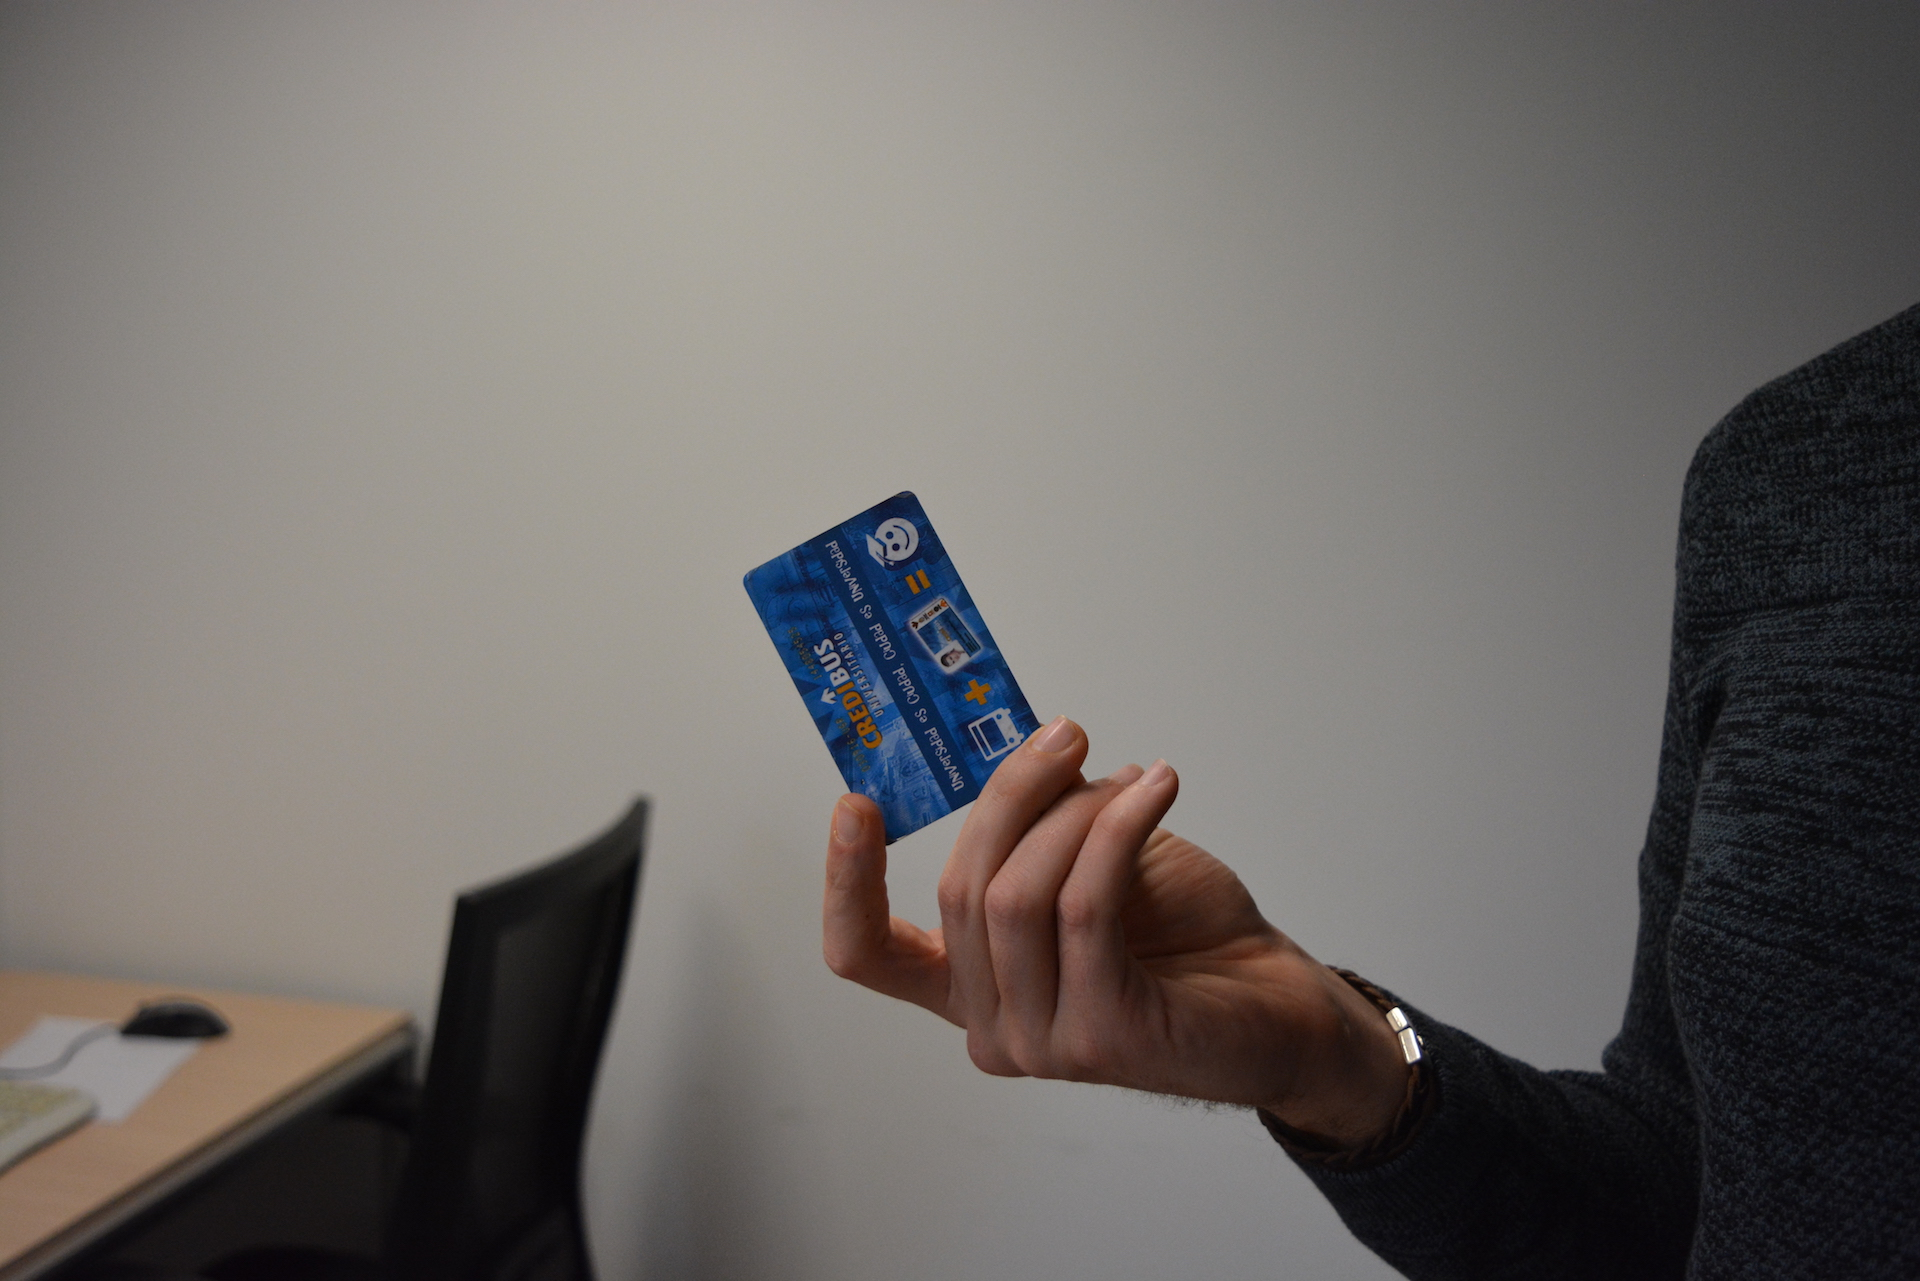tarjeta: (742, 488, 1046, 846)
